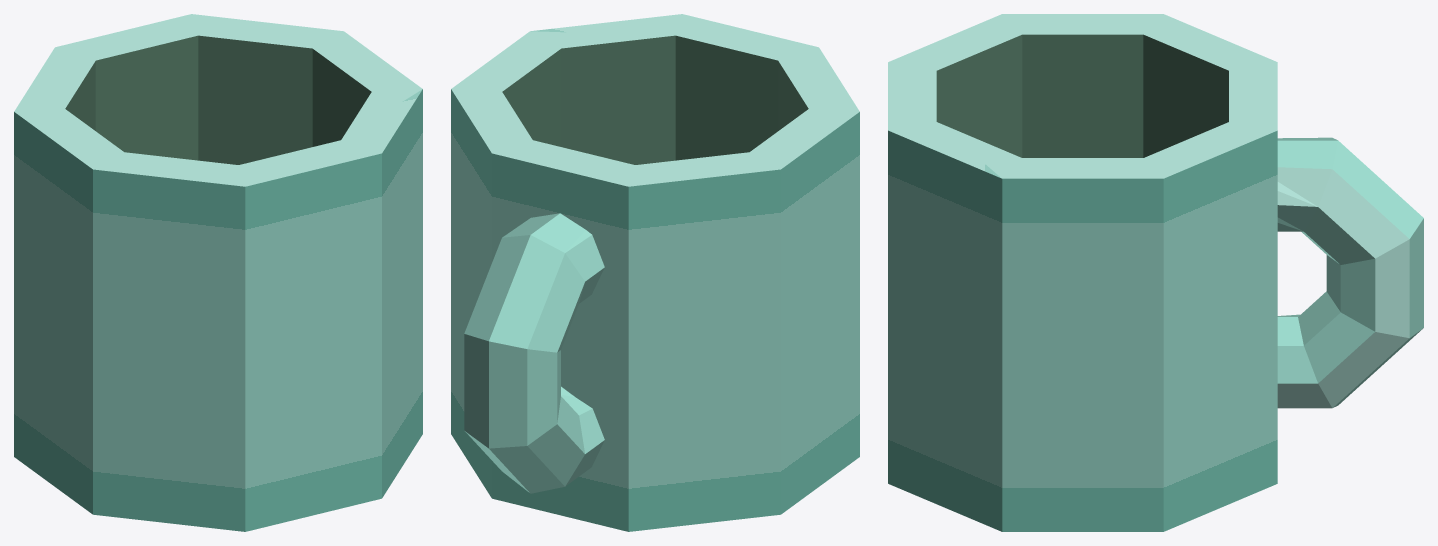
The model's file is mug.gltf.
3 views of the same model, side by side, from view 1: azimuth 30°, elevation 25°; view 2: azimuth 150°, elevation 25°; view 3: azimuth 270°, elevation 25° (orthographic). The views are drawn at different scales.
Parts seen in each view (by area): view 1: mug; view 2: mug; view 3: mug.
Part boxes in pixels (x1,y1,x2,y2): mug: [14, 14, 422, 531]; mug: [451, 14, 859, 531]; mug: [888, 14, 1423, 531].
Bounding box in the file's own units: 0.25 × 0.25 × 0.3438.
Materials: 1 (1 with a texture image).
